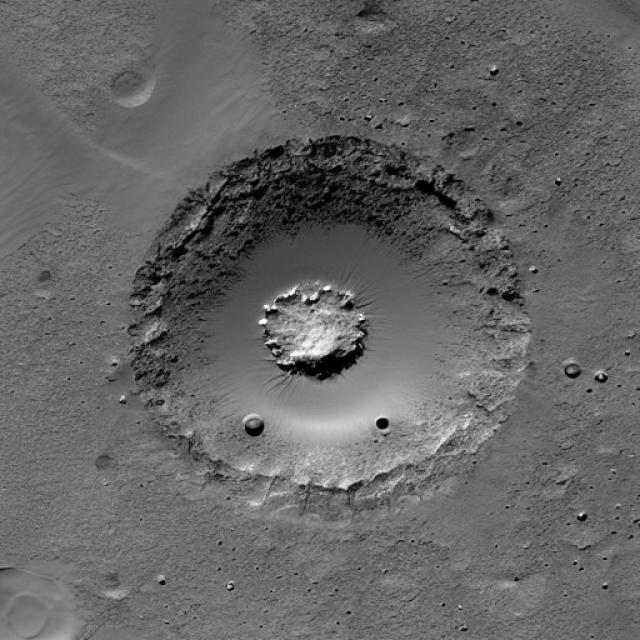crater: (126, 135, 527, 518)
